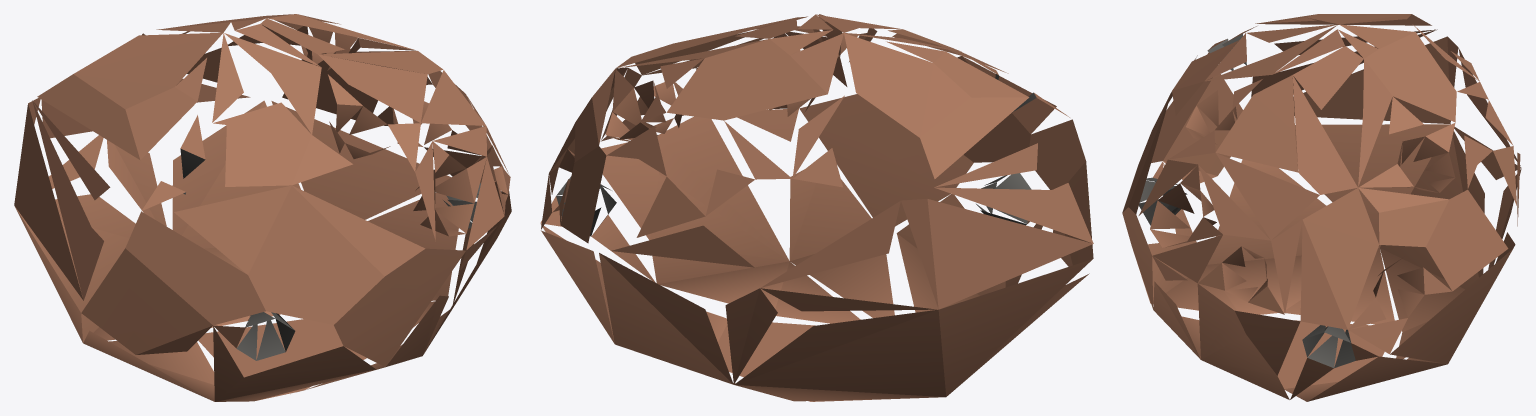
File: scoria.lod.glb
3 renders of one model, left to right at view 1: azimuth 30°, elevation 25°; view 2: azimuth 150°, elevation 25°; view 3: azimuth 270°, elevation 25°, orthographic. The views are drawn at different scales.
Parts seen in each view (by area): view 1: scoria; view 2: scoria; view 3: scoria.
Part boxes in pixels (bbox=[...]): scoria: bbox=[14, 14, 511, 401]; scoria: bbox=[540, 14, 1093, 401]; scoria: bbox=[1122, 14, 1521, 401].
Size of the model in its own units: 1.79 by 1.21 by 1.44.
